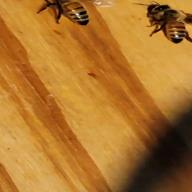Bee: (33, 0, 108, 38), (154, 0, 192, 46)
